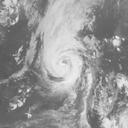cyclone: (41, 38, 85, 85)
